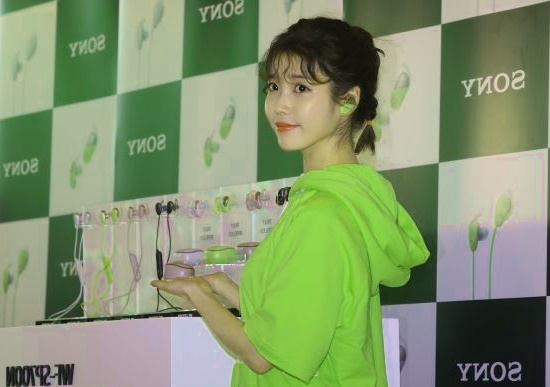earphone: (338, 85, 360, 116)
